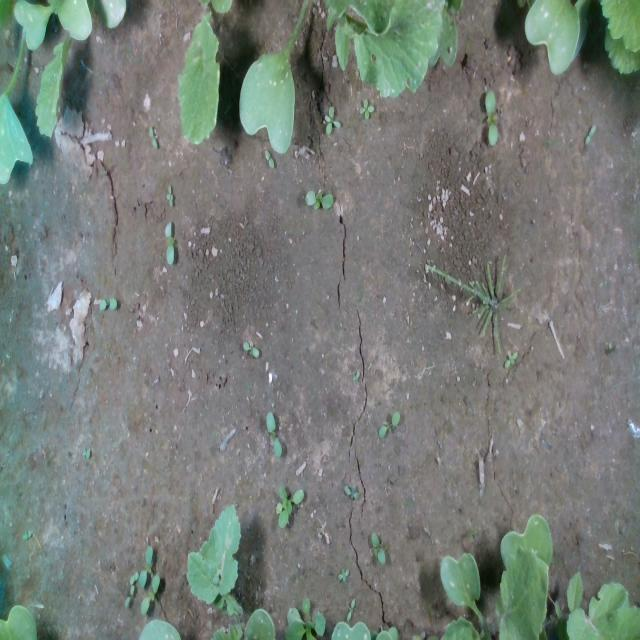weed: (265, 410, 281, 458), (484, 89, 497, 146), (378, 410, 400, 438), (305, 188, 333, 210), (370, 530, 386, 564), (323, 104, 340, 135), (164, 218, 174, 266), (358, 98, 374, 120), (96, 295, 118, 310), (242, 340, 260, 358), (343, 484, 360, 501), (504, 348, 518, 368), (345, 596, 355, 622), (148, 124, 158, 150), (124, 582, 134, 608), (264, 148, 274, 170), (337, 566, 349, 582), (165, 182, 173, 206)
